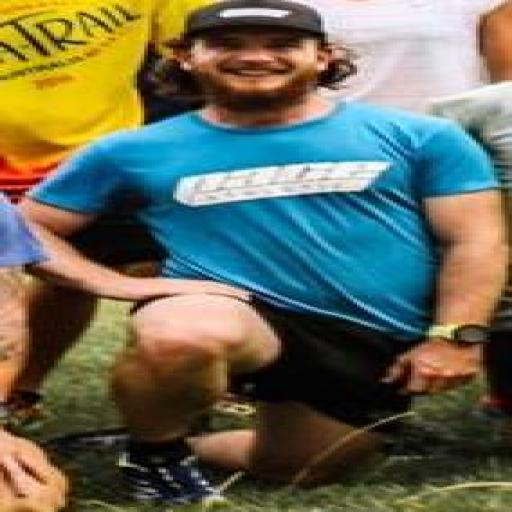person: (22, 0, 508, 503), (0, 0, 205, 200), (300, 0, 511, 111), (0, 196, 68, 511), (430, 82, 511, 233)
